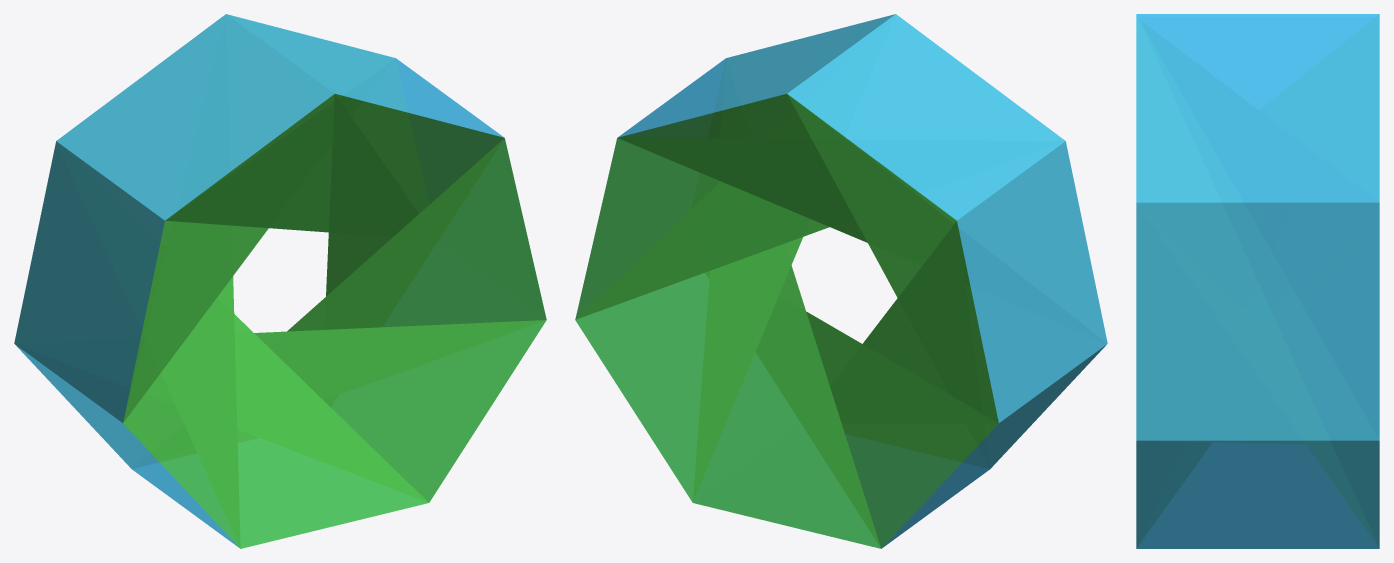
Rendered from HeptagonalIrisToroid.obj.
3 views of the same model, side by side, from view 1: azimuth 30°, elevation 25°; view 2: azimuth 150°, elevation 25°; view 3: azimuth 270°, elevation 25° (orthographic). The views are drawn at different scales.
Bounding box in the file's own units: 2.25 × 2.19 × 1.
